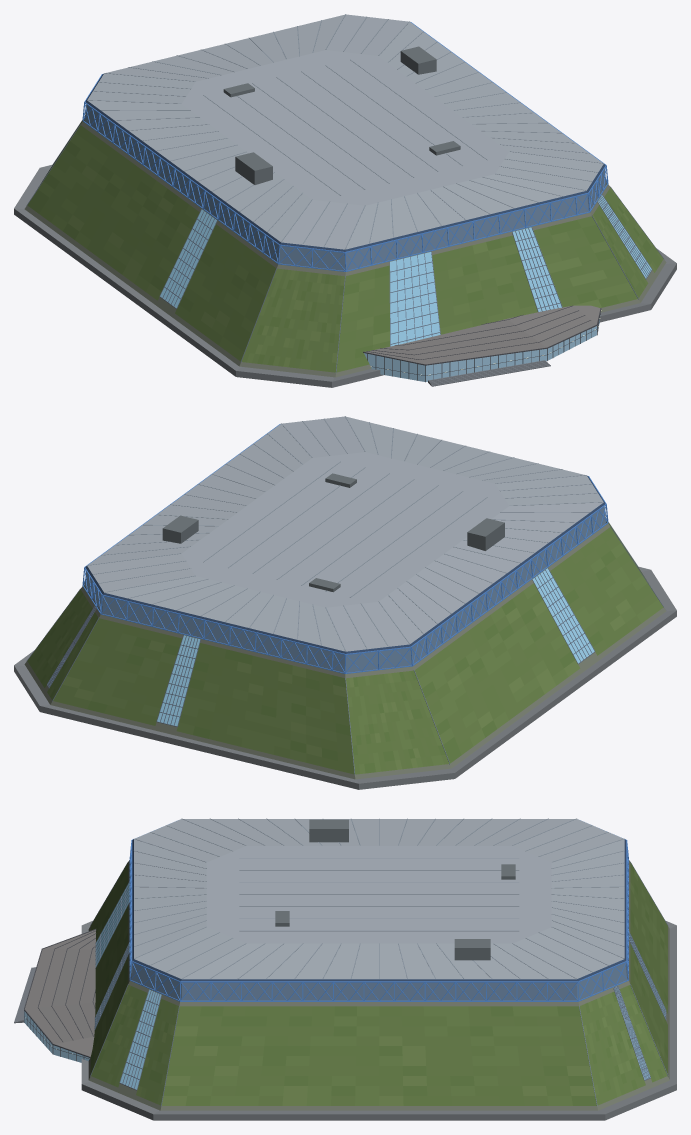
File: shell.glb
The picture shows the model from 3 angles, top to bottom: view 1: azimuth 30°, elevation 25°; view 2: azimuth 150°, elevation 25°; view 3: azimuth 270°, elevation 25°; orthographic projection.
Visible parts, largest first — view 1: shell_roof_canopy_zinc, shell_bowl_mass_planted_slope_1, shell_bowl_mass_planted_slope_5, shell_bowl_mass_planted_slope_2, shell_roof_canopy_clerestory, shell_bowl_mass_slope_skylight, shell_bowl_mass_planted_slope_4, shell_bowl_mass_plinth, shell_bowl_mass_entrance_promenade, shell_roof_truss_perimeter_chords, shell_roof_canopy_seams, shell_bowl_mass_cladding (+7 smaller); view 2: shell_roof_canopy_zinc, shell_bowl_mass_planted_slope_1, shell_bowl_mass_planted_slope_5, shell_bowl_mass_planted_slope_2, shell_roof_canopy_clerestory, shell_bowl_mass_plinth, shell_bowl_mass_cladding, shell_bowl_mass_planted_slope_4, shell_roof_truss_perimeter_chords, shell_roof_canopy_seams, shell_bowl_mass_planted_slope_3, shell_bowl_mass_slope_skylight (+3 smaller); view 3: shell_roof_canopy_zinc, shell_bowl_mass_planted_slope_1, shell_bowl_mass_planted_slope_5, shell_bowl_mass_planted_slope_2, shell_roof_canopy_clerestory, shell_bowl_mass_planted_slope_4, shell_bowl_mass_plinth, shell_roof_canopy_seams, shell_bowl_mass_entrance_promenade, shell_bowl_mass_cladding, shell_roof_truss_perimeter_chords, shell_bowl_mass_planted_slope_3 (+6 smaller).
Part boxes in pixels (bbox=[...]): shell_roof_canopy_zinc: bbox=[87, 14, 603, 249]; shell_bowl_mass_planted_slope_1: bbox=[42, 120, 661, 372]; shell_bowl_mass_planted_slope_5: bbox=[39, 120, 660, 372]; shell_bowl_mass_planted_slope_2: bbox=[38, 121, 663, 369]; shell_roof_canopy_clerestory: bbox=[84, 104, 606, 270]; shell_bowl_mass_slope_skylight: bbox=[160, 195, 651, 346]; shell_bowl_mass_planted_slope_4: bbox=[27, 141, 651, 365]; shell_bowl_mass_plinth: bbox=[14, 165, 676, 387]; shell_bowl_mass_entrance_promenade: bbox=[365, 305, 600, 364]; shell_roof_truss_perimeter_chords: bbox=[82, 22, 608, 271]; shell_roof_canopy_seams: bbox=[87, 14, 603, 249]; shell_bowl_mass_cladding: bbox=[24, 121, 666, 377]; shell_roof_canopy_zinc: bbox=[87, 416, 603, 651]; shell_bowl_mass_planted_slope_1: bbox=[27, 523, 658, 770]; shell_bowl_mass_planted_slope_5: bbox=[35, 523, 652, 774]; shell_bowl_mass_planted_slope_2: bbox=[32, 522, 663, 773]; shell_roof_canopy_clerestory: bbox=[84, 506, 606, 672]; shell_bowl_mass_plinth: bbox=[14, 567, 676, 789]; shell_bowl_mass_cladding: bbox=[24, 523, 666, 779]; shell_bowl_mass_planted_slope_4: bbox=[37, 531, 624, 773]; shell_roof_truss_perimeter_chords: bbox=[82, 424, 608, 673]; shell_roof_canopy_seams: bbox=[87, 416, 603, 651]; shell_bowl_mass_planted_slope_3: bbox=[47, 599, 630, 769]; shell_bowl_mass_slope_skylight: bbox=[48, 568, 594, 726]; shell_roof_canopy_zinc: bbox=[134, 819, 624, 979]; shell_bowl_mass_planted_slope_1: bbox=[90, 862, 667, 1105]; shell_bowl_mass_planted_slope_5: bbox=[90, 869, 667, 1105]; shell_bowl_mass_planted_slope_2: bbox=[94, 875, 667, 1105]; shell_roof_canopy_clerestory: bbox=[131, 963, 627, 1000]; shell_bowl_mass_planted_slope_4: bbox=[90, 862, 667, 1105]; shell_bowl_mass_plinth: bbox=[81, 921, 676, 1120]; shell_roof_canopy_seams: bbox=[134, 818, 624, 978]; shell_bowl_mass_entrance_promenade: bbox=[25, 929, 95, 1056]; shell_bowl_mass_cladding: bbox=[88, 860, 669, 1110]; shell_roof_truss_perimeter_chords: bbox=[129, 820, 628, 1001]; shell_bowl_mass_planted_slope_3: bbox=[90, 869, 664, 1105].
Size of the model in its own units: 145 by 39.71 by 185.
